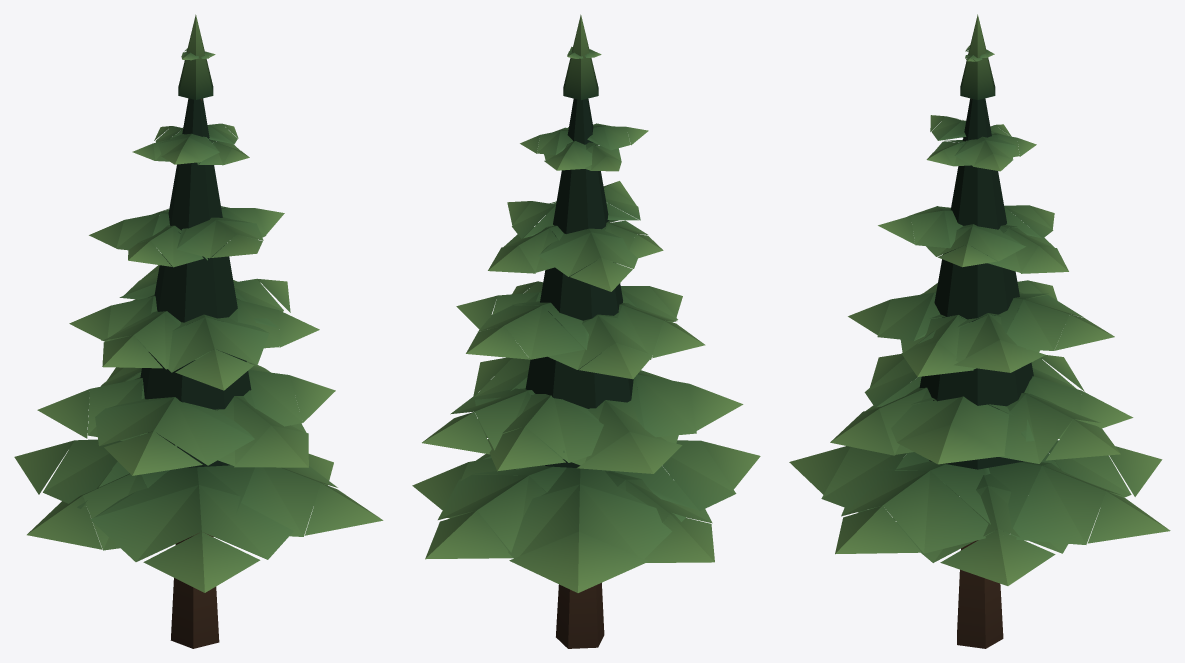
Rendered from valley-pine_c_mid.glb.
3 views of the same model, side by side, from view 1: azimuth 30°, elevation 25°; view 2: azimuth 150°, elevation 25°; view 3: azimuth 270°, elevation 25° (orthographic).
Visible parts, largest first — view 1: pine_c_mid; view 2: pine_c_mid; view 3: pine_c_mid.
Part boxes in pixels (x1=…): pine_c_mid: x1=14, y1=14, x2=383, y2=648; pine_c_mid: x1=412, y1=14, x2=760, y2=648; pine_c_mid: x1=789, y1=14, x2=1170, y2=648.
Size of the model in its own units: 10.41 by 20.36 by 11.28.
